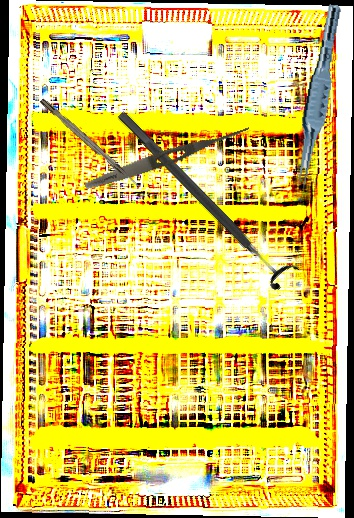Dressing Forceps: (82, 119, 252, 195)
Fixation Ring: (107, 100, 301, 295)
Hook Surgical: (39, 97, 142, 190)
Tissue Forceps: (291, 2, 343, 191)
